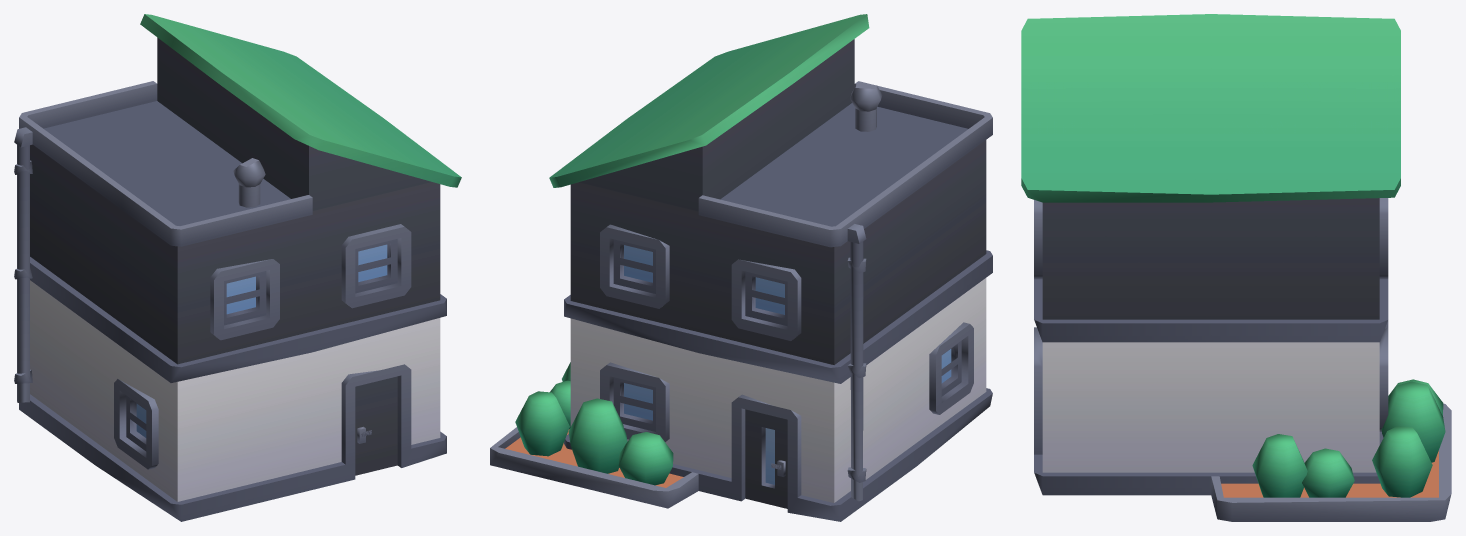
File: 065_city-kit-suburban_building-type-l_card.glb
3 renders of one model, left to right at view 1: azimuth 30°, elevation 25°; view 2: azimuth 150°, elevation 25°; view 3: azimuth 270°, elevation 25°, orthographic. The views are drawn at different scales.
Parts seen in each view (by area): view 1: building-type-l; view 2: building-type-l; view 3: building-type-l.
Boxes of the visible parts, x1,y1,x2,y2 form: building-type-l: (14,14,461,521); building-type-l: (490,14,992,521); building-type-l: (1021,14,1451,521).
Bounding box in the file's own units: 1.03 × 1.05 × 1.02.
Materials: 1 (1 with a texture image).
